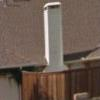Chimney: (36, 2, 71, 73)
